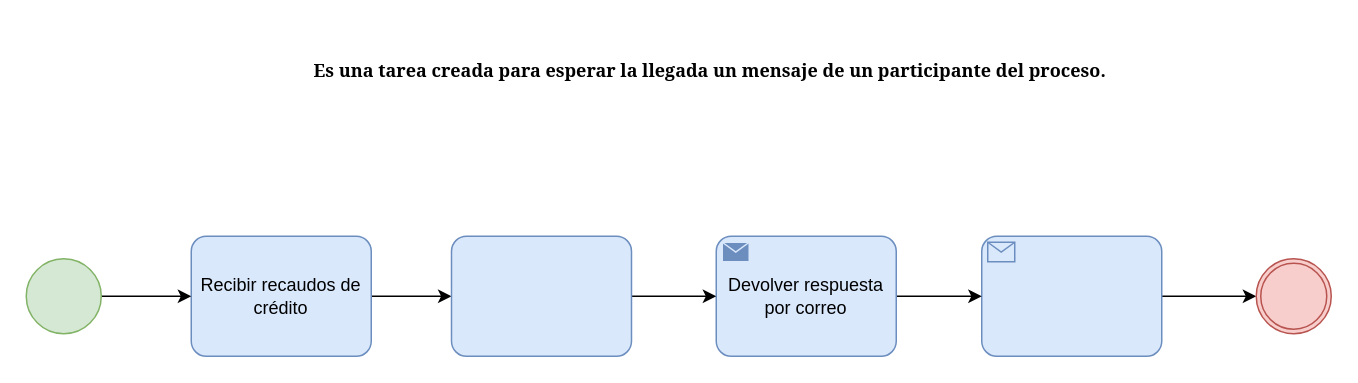
This 1358x383 diagram has some shape labels left out. Here are the shapes that lost their labels. From the top down, the centre of each, then its label:
At (541,295): "Analizar recaudos".
At (1071,295): "Recibir el mensaje".
